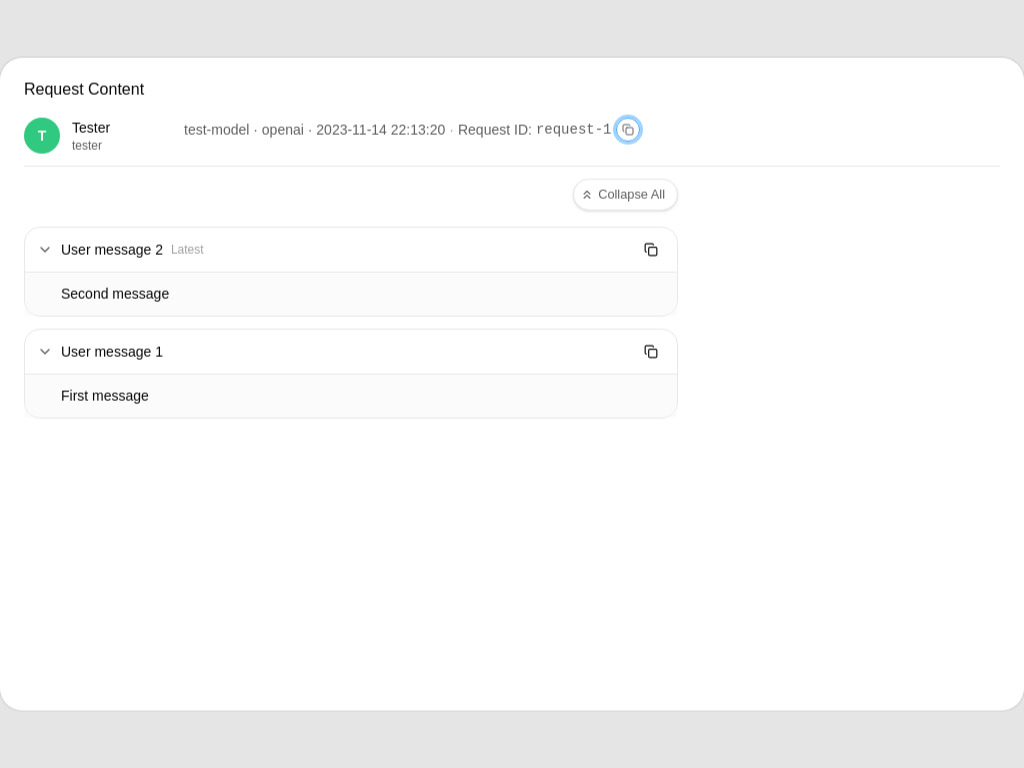
Test case: request content message collapse controls › uses one control to collapse and expand every message
Expected: the button "Expand All" is not shown
Click the button "Collapse All" at {"x": 626, "y": 195}, box top-left (573, 179), bottom-right (678, 211)
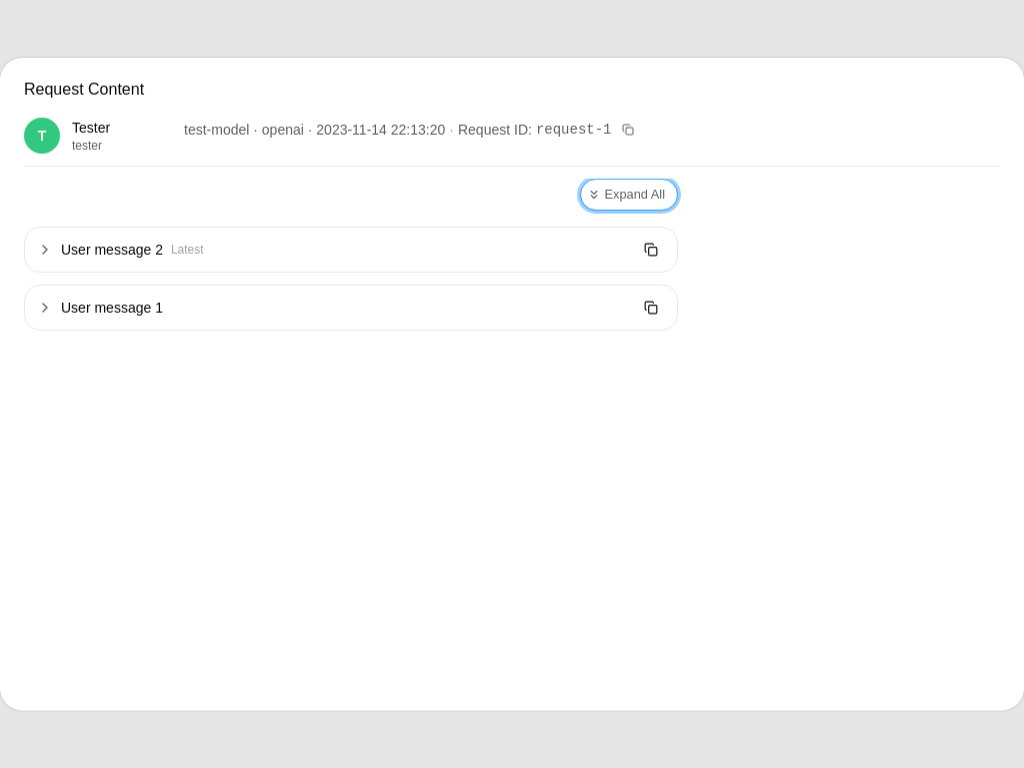
Expected: the text "User message 2" is collapsed, top-left (37, 242), bottom-right (204, 258)
Expected: the text "User message 1" is collapsed, top-left (37, 300), bottom-right (163, 316)
Expected: the button "Collapse All" is gone
Click the button "Expand All" at {"x": 629, "y": 195}, box top-left (580, 179), bottom-right (678, 211)
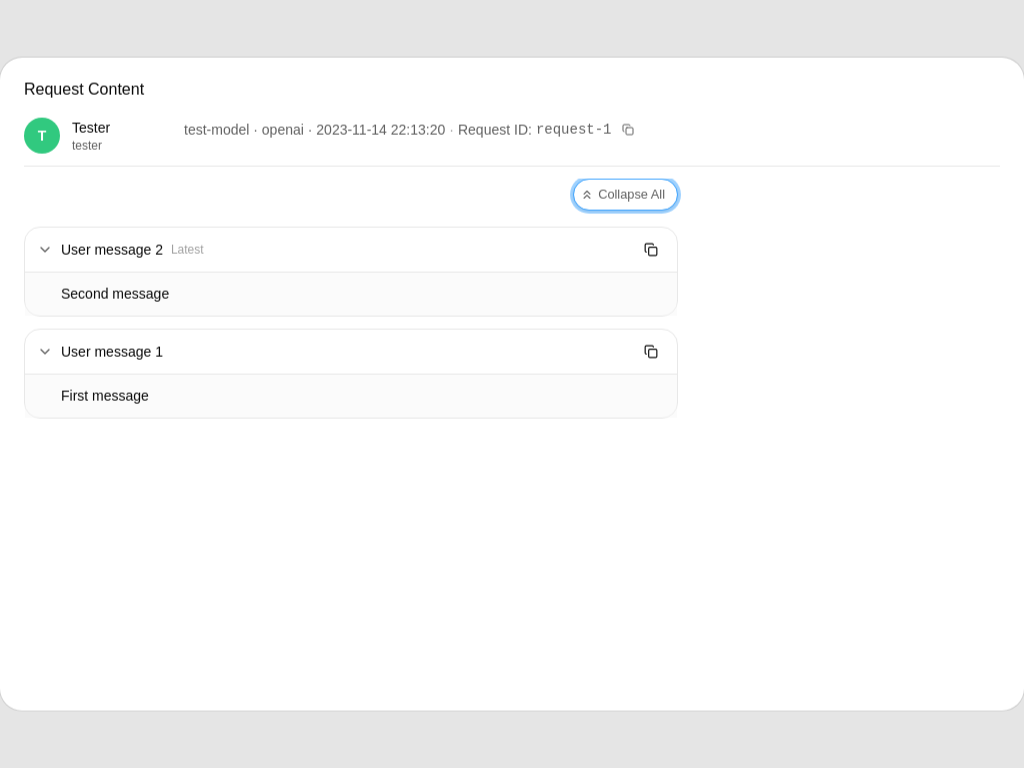
Expected: the text "User message 2" is expanded, top-left (37, 242), bottom-right (204, 258)
Expected: the text "User message 1" is expanded, top-left (37, 343), bottom-right (163, 359)
